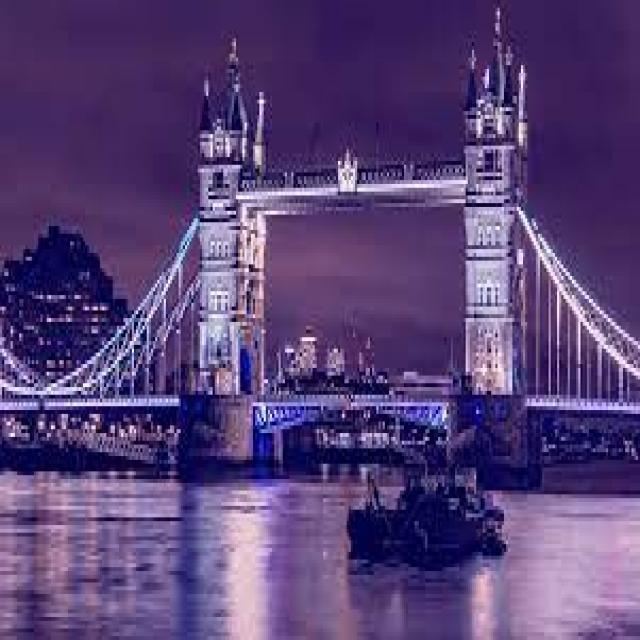Bridges: (0, 31, 640, 507)
